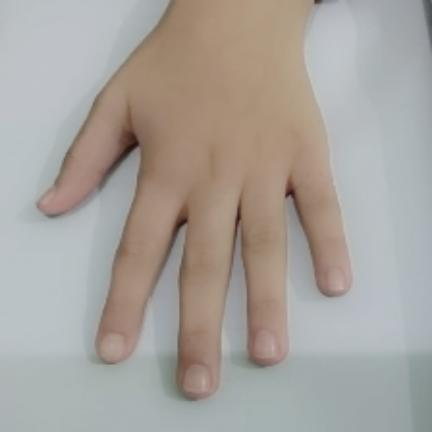Nail: (97, 332, 127, 362), (182, 364, 211, 393), (254, 330, 278, 359), (327, 267, 346, 292), (37, 186, 56, 203)
